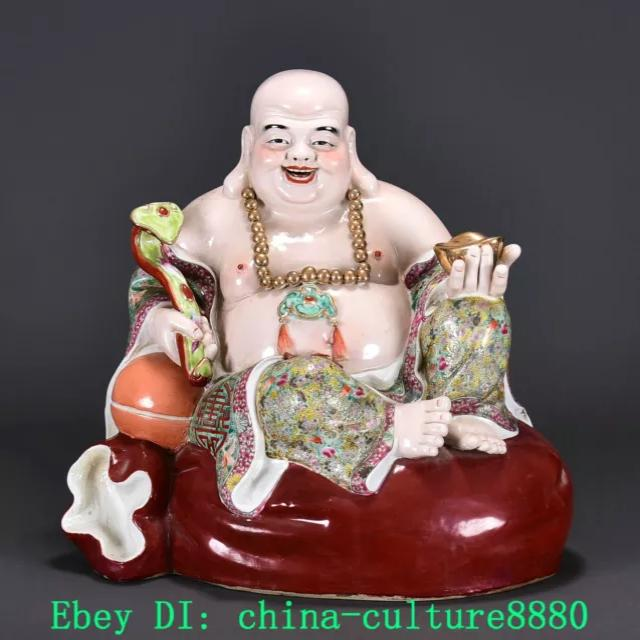Smiling Buddha: (189, 66, 442, 451)
